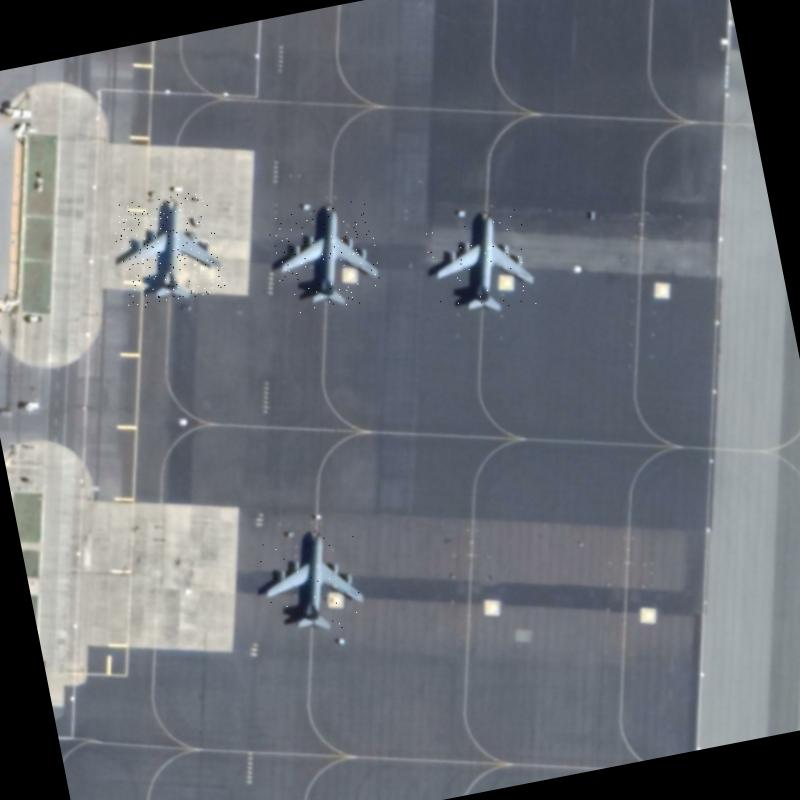A14: (266, 196, 386, 318), (108, 186, 226, 310), (422, 204, 543, 324), (252, 521, 370, 641)
